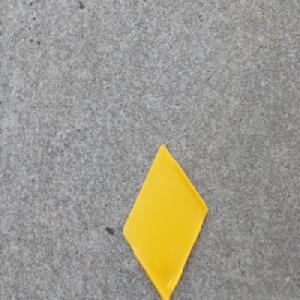PlasticPart: (122, 145, 208, 300)
